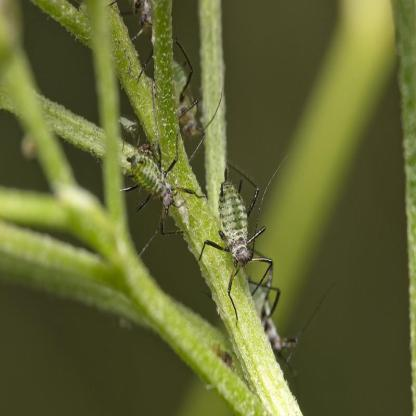aphid: (205, 157, 265, 293), (243, 254, 307, 377), (119, 139, 196, 234), (163, 40, 205, 135), (123, 0, 169, 65)
